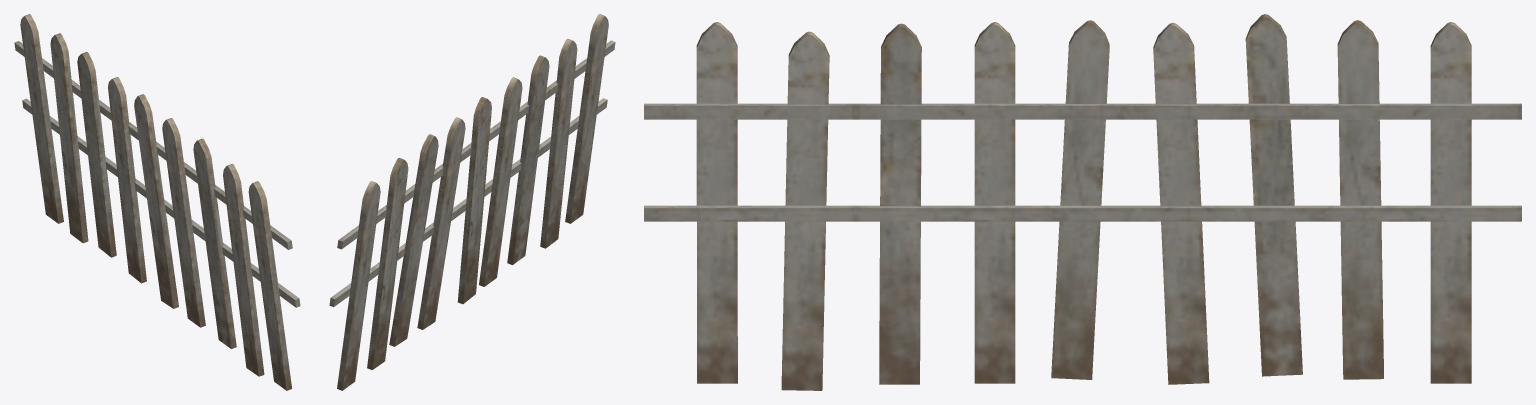
File: Alley_OBJ_Fence_04_L.fbx
The picture shows the model from 3 angles, left to right: view 1: azimuth 30°, elevation 25°; view 2: azimuth 150°, elevation 25°; view 3: azimuth 270°, elevation 25°; orthographic projection. The views are drawn at different scales.
Visible parts, largest first — view 1: Alley_OBJ_Fence_04_L; view 2: Alley_OBJ_Fence_04_L; view 3: Alley_OBJ_Fence_04_L.
Boxes of the visible parts, x1,y1,x2,y2 form: Alley_OBJ_Fence_04_L: (14,14,300,390); Alley_OBJ_Fence_04_L: (329,14,615,390); Alley_OBJ_Fence_04_L: (644,14,1521,390).
Bounding box in the file's own units: 23.64 × 143 × 322.
Materials: 1 (1 with a texture image).
